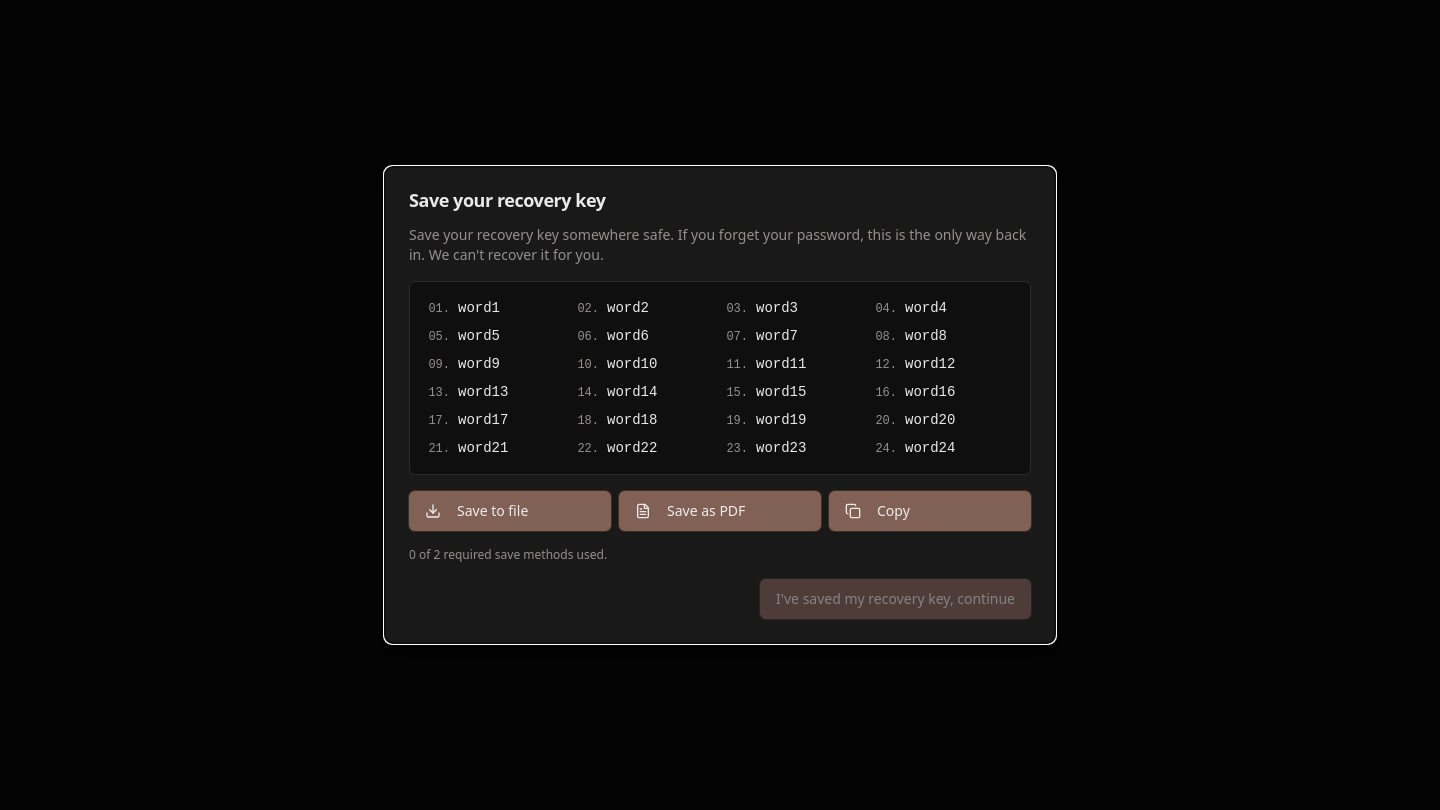
it: RecoveryKeyDialog (load-bearing) › shows the pending native dialog and blocks duplicate export attempts
Expected: the element with test id "recovery-key-grid" is shown, top-left (409, 281), bottom-right (1031, 475)
Click the button with test id "save-method-save-to-file": (510, 511) top-left (409, 491), bottom-right (611, 531)
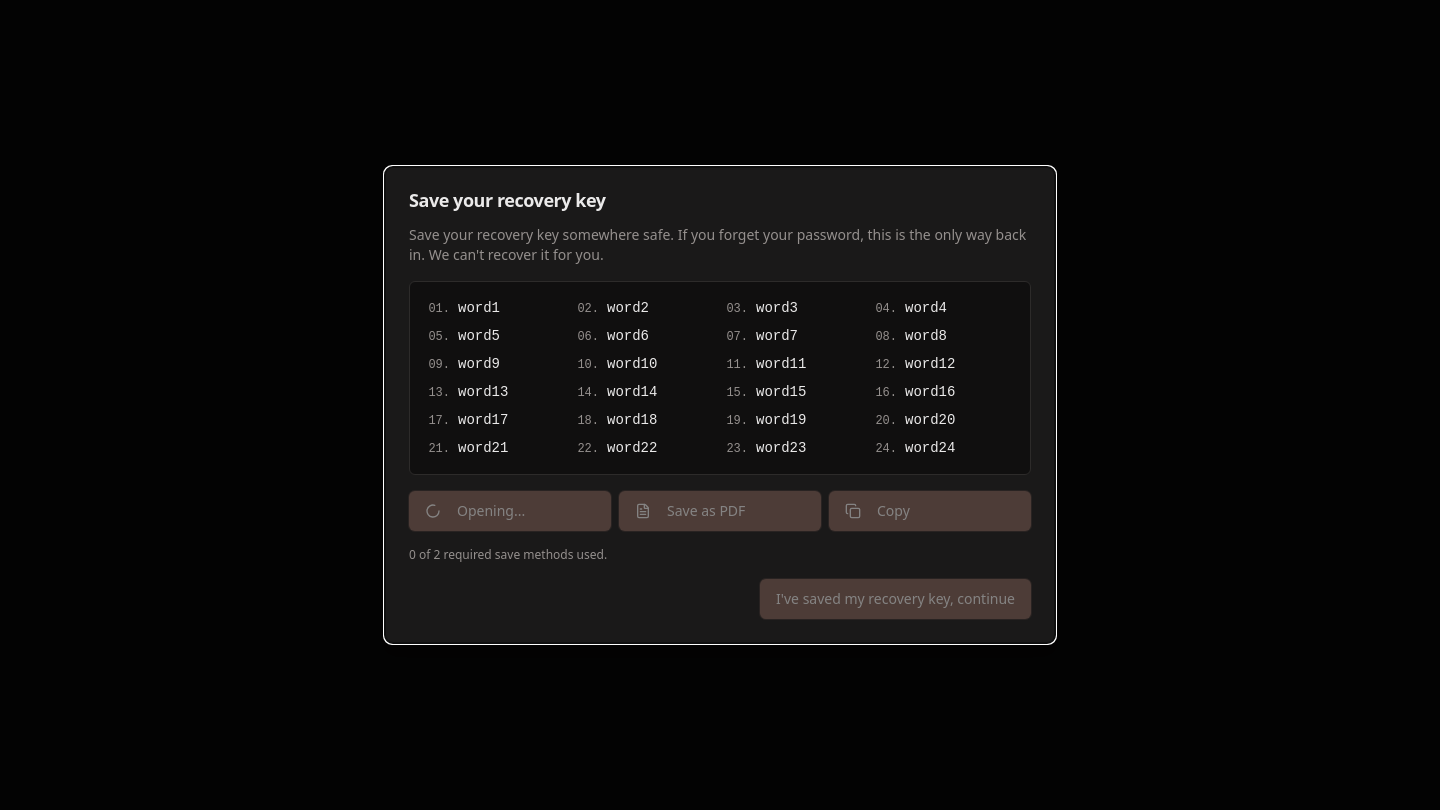
Result: the button with test id "save-method-save-to-file" reads "Opening..." at top-left (409, 491), bottom-right (611, 531)
Result: the button with test id "save-method-save-to-file" is disabled at top-left (409, 491), bottom-right (611, 531)
Result: the button with test id "save-method-save-as-pdf" is disabled
Click the button with test id "save-method-save-as-pdf": (720, 511) top-left (619, 491), bottom-right (821, 531)
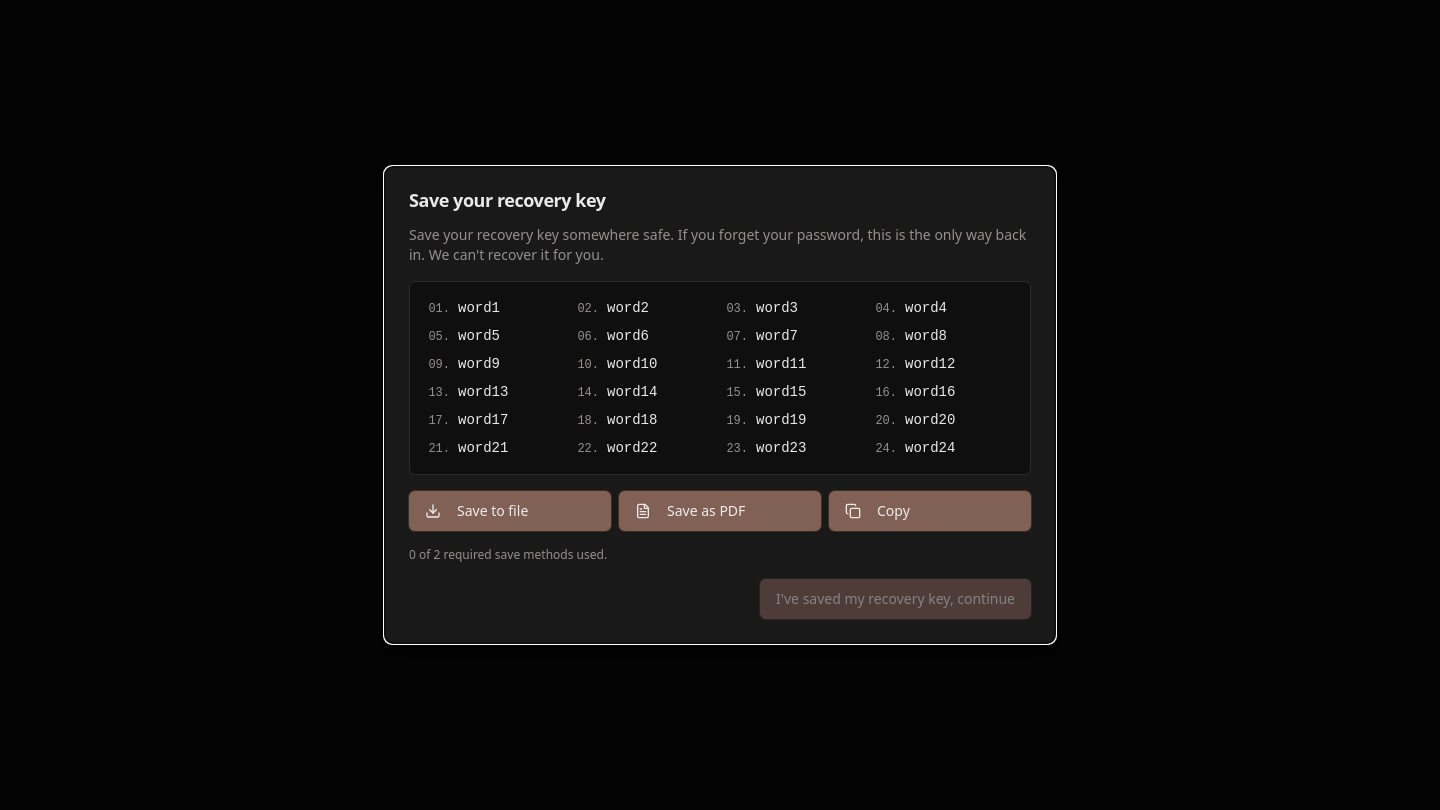
Result: the button with test id "save-method-save-to-file" reads "Save to file" at top-left (409, 491), bottom-right (611, 531)
Result: the button with test id "save-method-save-to-file" is enabled at top-left (409, 491), bottom-right (611, 531)
Result: the button with test id "save-method-save-as-pdf" is enabled at top-left (619, 491), bottom-right (821, 531)
